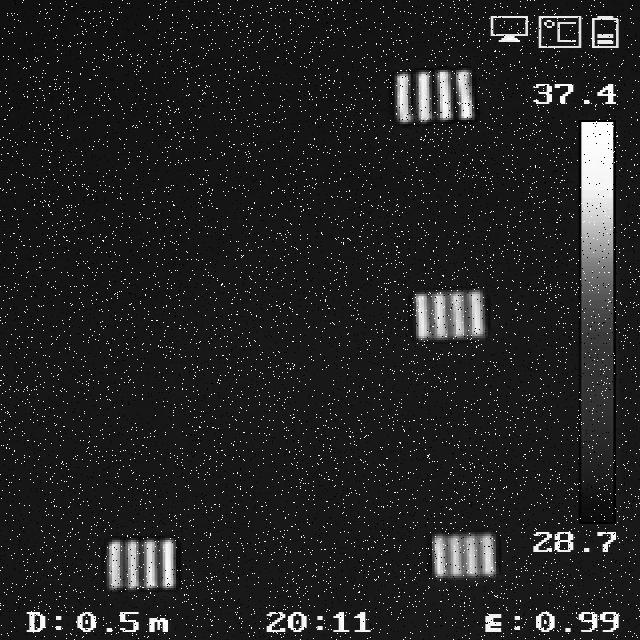Distinguishable 4-bar target: (391, 68, 481, 126), (407, 289, 489, 341), (111, 538, 177, 590), (432, 533, 499, 579)
